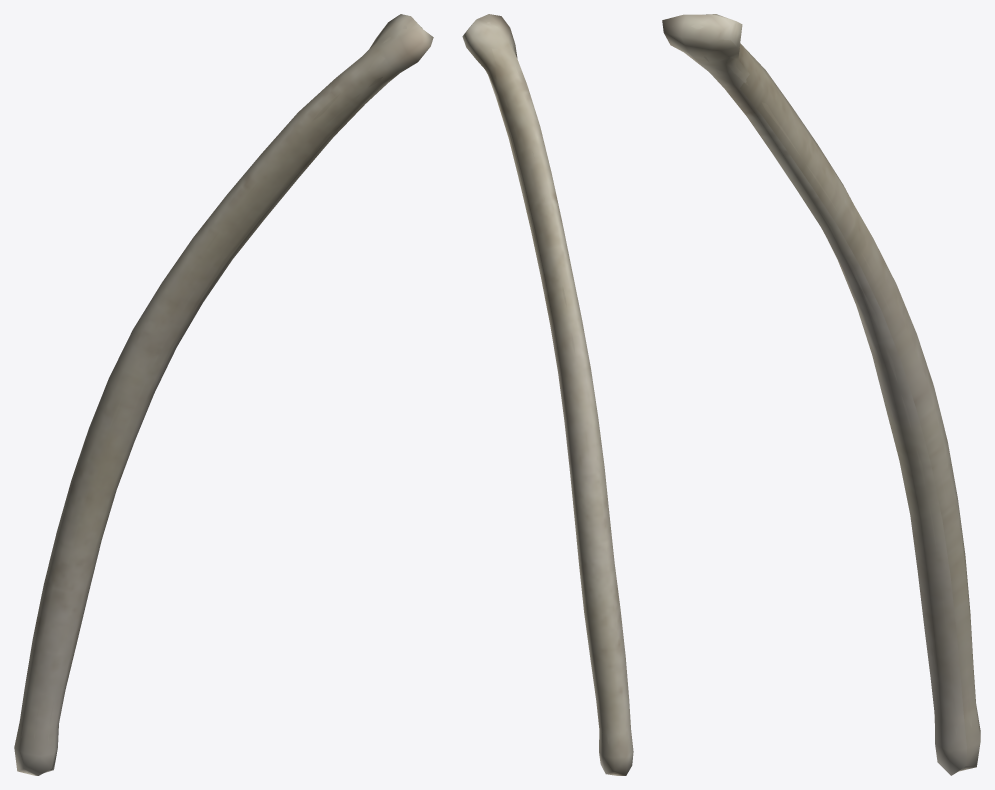
Rendered from Rib R07.fbx.
3 views of the same model, side by side, from view 1: azimuth 30°, elevation 25°; view 2: azimuth 150°, elevation 25°; view 3: azimuth 270°, elevation 25° (orthographic). The views are drawn at different scales.
Parts seen in each view (by area): view 1: Rib R07 low, Rib R07; view 2: Rib R07 low, Rib R07; view 3: Rib R07 low, Rib R07.
Boxes of the visible parts, x1=… form: Rib R07 low: x1=14, y1=14, x2=433, y2=775; Rib R07: x1=21, y1=25, x2=422, y2=773; Rib R07 low: x1=462, y1=14, x2=633, y2=775; Rib R07: x1=484, y1=22, x2=629, y2=774; Rib R07 low: x1=662, y1=14, x2=980, y2=775; Rib R07: x1=684, y1=14, x2=977, y2=770.
Bounding box in the file's own units: 2.62 × 6.41 × 2.02.
1 material, 1 textured.
